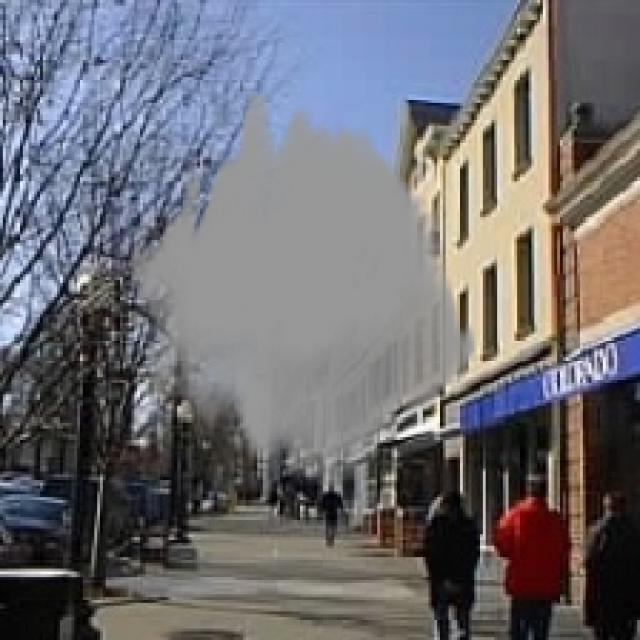smoke: (129, 94, 477, 486)
